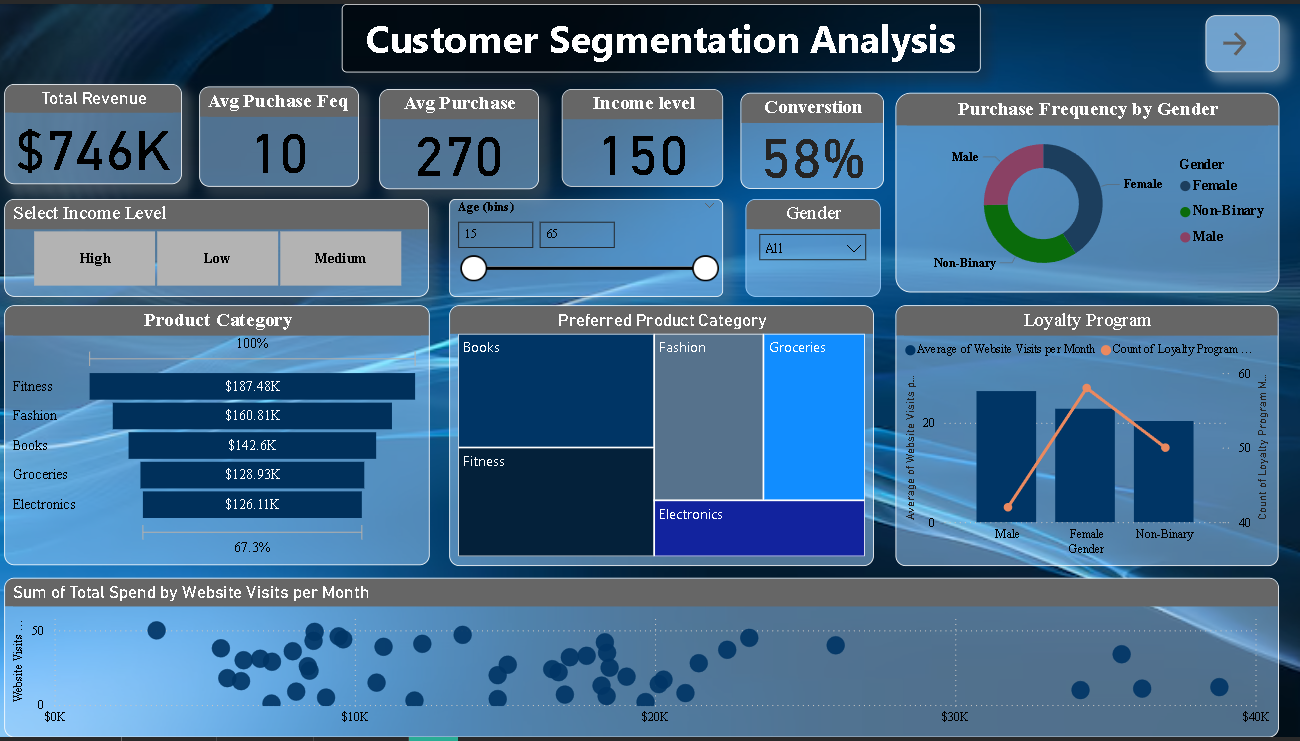

This screenshot's page, from the dashboard's own definition file:
{"tool":"powerbi","page":{"name":"Page 3","canvas":[1280,720],"ordinal":1},"visuals":[{"type":"textbox","box":[337.6,0,627.1,67.2],"z":0},{"type":"card","title":"Total Revenue","fields":{"Values":["Sum(Sheet1.Total Spend)"]},"box":[6.1,78.5,174.2,98.2],"z":1000},{"type":"card","title":"Avg Purchase","fields":{"Values":["Avg(Sheet1.Average Purchase Value)"]},"box":[374.2,83.4,157.1,98.2],"z":2000},{"type":"card","title":"Avg Puchase Feq","fields":{"Values":["Avg(Sheet1.Purchase Frequency)"]},"box":[197.5,81,157.1,98.2],"z":3000},{"type":"slicer","fields":{"Values":["Sheet1.Age (bins)"]},"box":[442.9,191.4,268.7,95.7],"z":4000},{"type":"slicer","title":"Select Income Level","fields":{"Values":["Sheet1.Income Level"]},"box":[5.7,191.4,417.1,95.7],"z":5000},{"type":"donutChart","title":"Purchase Frequency by Gender","fields":{"Category":["Sheet1.Gender"],"Y":["Sum(Sheet1.Purchase Frequency)"]},"box":[881,87.1,376.7,196.3],"z":6000},{"type":"card","title":"Income level","fields":{"Values":["CountNonNull(Sheet1.Income Level)"]},"box":[553.4,83.4,158.3,95.7],"z":7000},{"type":"treemap","title":"Preferred Product Category","fields":{"Group":["Sheet1.Preferred Product Category"],"Values":["Variance(Sheet1.Total Spend)"]},"box":[442.9,295.7,417.1,255.7],"z":8000},{"type":"funnel","title":"Product Category","fields":{"Y":["Sum(Sheet1.Total Spend)"],"Category":["Sheet1.Preferred Product Category"]},"box":[6.2,296.2,417.5,255],"z":9000},{"type":"lineStackedColumnComboChart","title":"Loyalty Program","fields":{"Category":["Sheet1.Gender"],"Y":["Avg(Sheet1.Website Visits per Month)"],"Y2":["CountNonNull(Sheet1.Loyalty Program Member)"]},"box":[881.4,295.7,375.7,255.7],"z":10000},{"type":"scatterChart","fields":{"X":["Sum(Sheet1.Total Spend)"],"Y":["Sheet1.Website Visits per Month"]},"box":[5.7,562.9,1251.4,157.1],"z":11000},{"type":"actionButton","box":[1185,11.2,72.5,56.2],"z":12000},{"type":"card","title":"Converstion ","fields":{"Values":["Sheet1.Convertion"]},"box":[728.8,87.1,141.1,94.5],"z":13000},{"type":"slicer","title":"Gender","fields":{"Values":["Sheet1.Gender"]},"box":[733.7,191.4,132.5,95.7],"z":14000}]}

Visuals, with their boxes in screenshot pixels (x1, y1, x2, y2), scaled from the page's 1280x720 canvas onto the 1300x741 screenshot:
textbox: (343,0,980,69)
"Total Revenue" card: (6,81,183,182)
"Avg Purchase" card: (380,86,540,187)
"Avg Puchase Feq" card: (201,83,360,184)
slicer - Sheet1.Age (bins): (450,197,723,295)
"Select Income Level" slicer: (6,197,429,295)
"Purchase Frequency by Gender" donutChart: (895,90,1277,292)
"Income level" card: (562,86,723,184)
"Preferred Product Category" treemap: (450,304,873,567)
"Product Category" funnel: (6,305,430,567)
"Loyalty Program" lineStackedColumnComboChart: (895,304,1277,567)
scatterChart - Sum(Sheet1.Total Spend) x Sheet1.Website Visits per Month: (6,579,1277,740)
actionButton: (1204,12,1277,69)
"Converstion " card: (740,90,883,187)
"Gender" slicer: (745,197,880,295)
